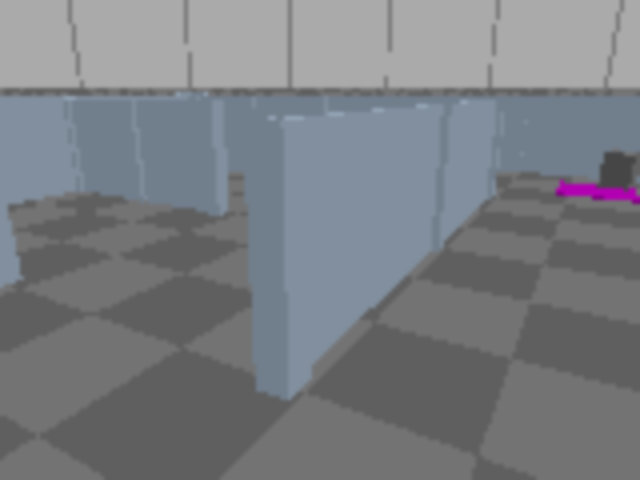goal_zone: (556, 182, 638, 203)
obstacle: (598, 149, 638, 192)
